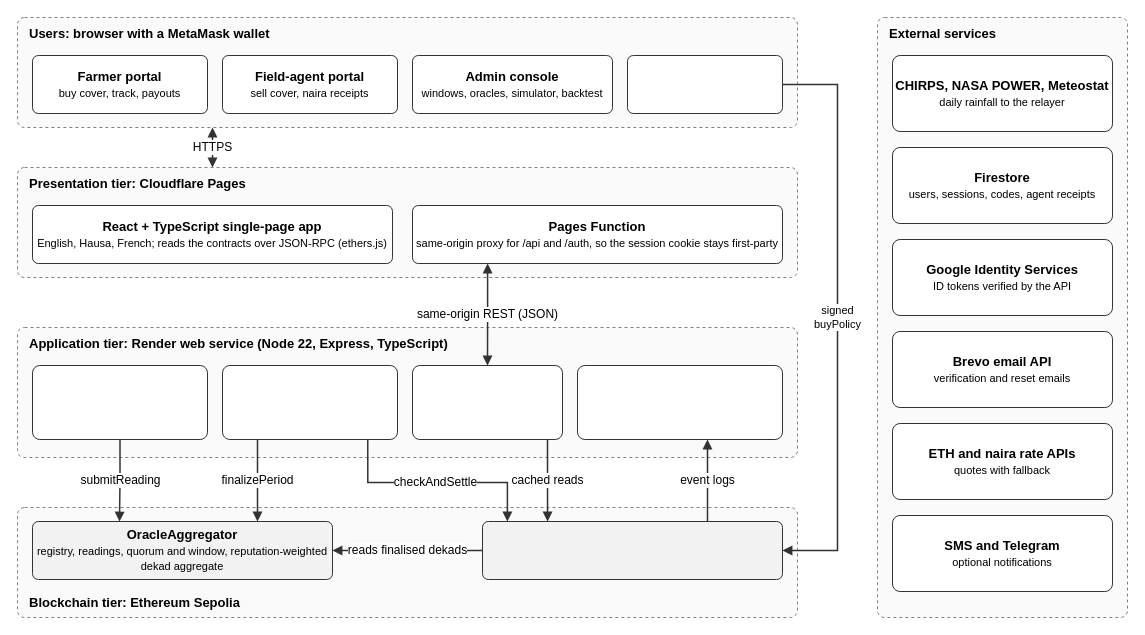
The diagram is 1145 pixels wide and 635 high, and some of its shapes have lost their labels. Each missing label, with the centre of its shape:
"MetaMask wallet signs buyPolicy" belongs at pixel 704 84.
"Notifier policy and payout events to in-app, SMS and Telegram" belongs at pixel 679 402.
"Oracle relayer one signing key per source; complete dekads only" belongs at pixel 120 402.
"REST API sessions, roles, receipt verification, stale-while-revalidate cache" belongs at pixel 487 402.
"Settlement keeper finalizePeriod, checkAndSettle, hourly" belongs at pixel 310 402.
"WeatherIndexInsurance windows, premiums, reserves, policies, automatic payout" belongs at pixel 632 550.
